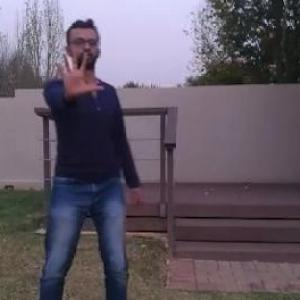follow_hand: (53, 48, 104, 99)
